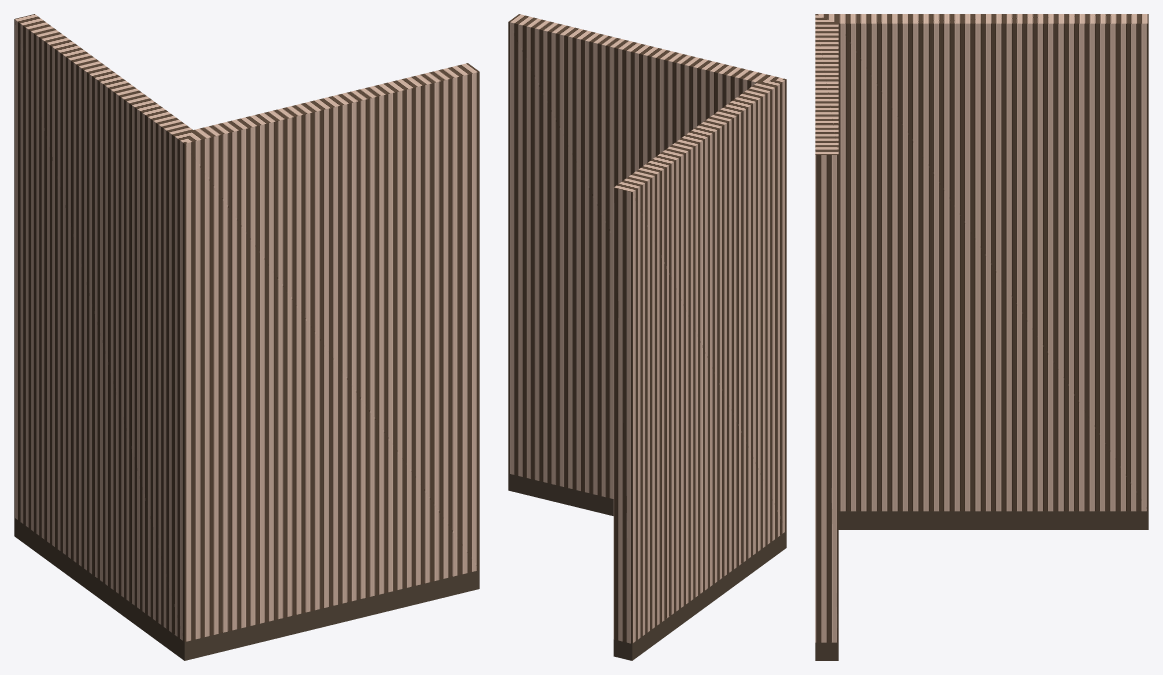
The model's file is ARC0210021.fbx.
The picture shows the model from 3 angles, left to right: view 1: azimuth 30°, elevation 25°; view 2: azimuth 150°, elevation 25°; view 3: azimuth 270°, elevation 25°; orthographic projection. The views are drawn at different scales.
Parts seen in each view (by area): view 1: smARC0210021; view 2: smARC0210021; view 3: smARC0210021.
Part boxes in pixels (box(x1,y1,x2,y2)): smARC0210021: box(14, 14, 479, 660); smARC0210021: box(508, 14, 786, 660); smARC0210021: box(815, 14, 1148, 660).
Size of the model in its own units: 196 by 328 by 196.
Materials: 1 (1 with a texture image).
